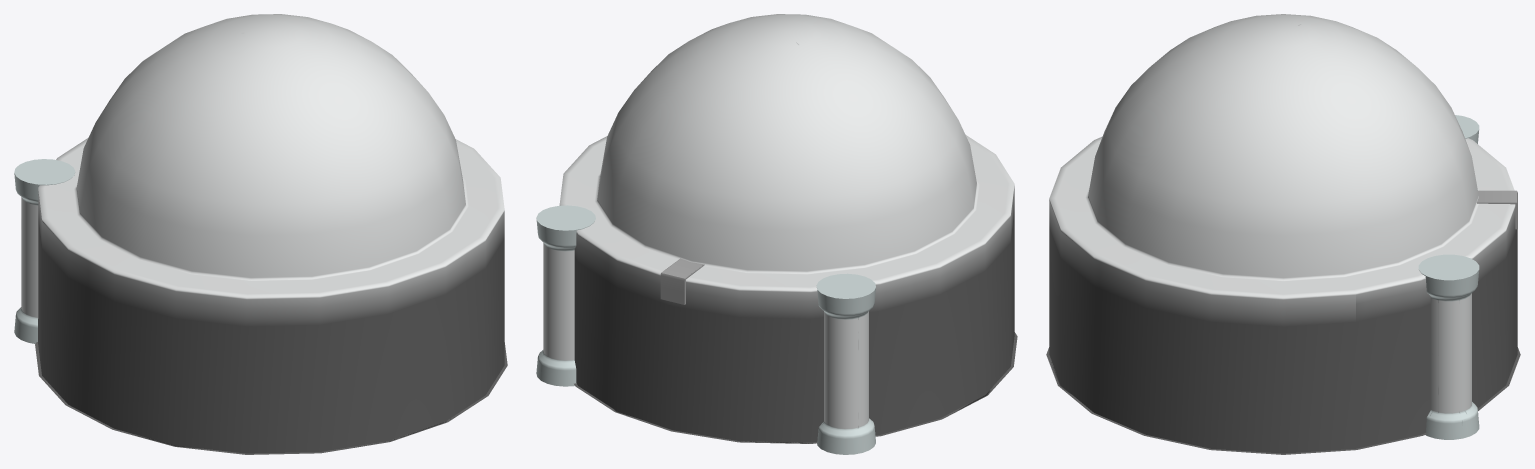
File: hikaesitu_alpha_02.fbx
3 views of the same model, side by side, from view 1: azimuth 30°, elevation 25°; view 2: azimuth 150°, elevation 25°; view 3: azimuth 270°, elevation 25° (orthographic). The views are drawn at different scales.
Parts seen in each view (by area): view 1: room_1, hasira_L; view 2: room_1, hasira_L, hasira_R, dispray; view 3: room_1, hasira_R, dispray.
Part boxes in pixels (left/top/right/bottom): room_1: left=35, top=14, right=507, bottom=454; hasira_L: left=14, top=159, right=75, bottom=343; room_1: left=559, top=14, right=1017, bottom=443; hasira_L: left=816, top=273, right=875, bottom=454; hasira_R: left=536, top=205, right=595, bottom=386; dispray: left=660, top=258, right=704, bottom=304; room_1: left=1046, top=14, right=1520, bottom=454; hasira_R: left=1418, top=254, right=1479, bottom=439; dispray: left=1477, top=190, right=1517, bottom=229.
Bounding box in the file's own units: 203 × 153 × 203.
